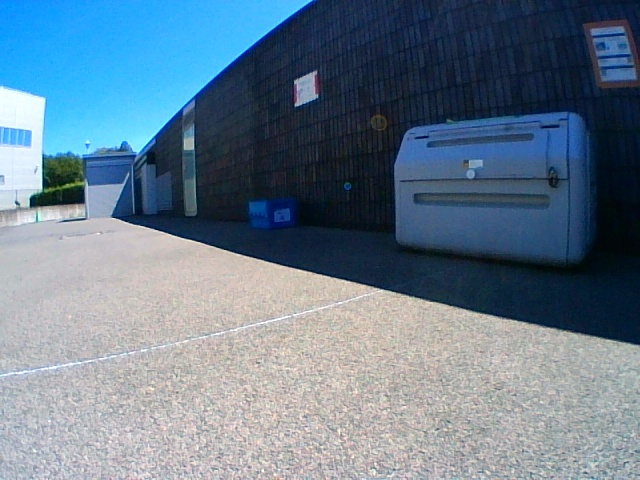blue_box: (248, 198, 296, 229)
tag: (275, 209, 288, 222)
